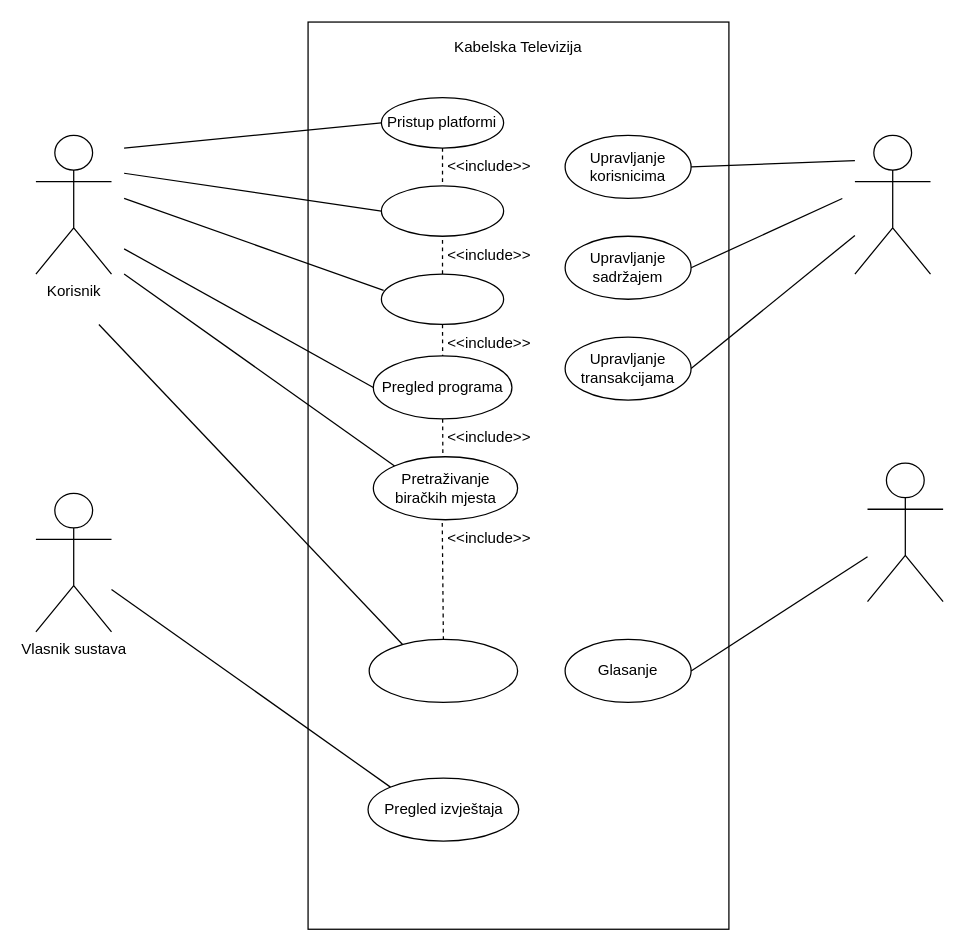
Some shapes in this 980 by 951 pixel diagram are drawn without their labels. Each missing label, with the centre of its shape:
Administrator: point (892, 204)
Biranje kadnidata: point (443, 670)
Pretraživanje kadnidata: point (442, 210)
Pretraživanje stranaka: point (442, 298)
Sustav glasanja: point (904, 532)
